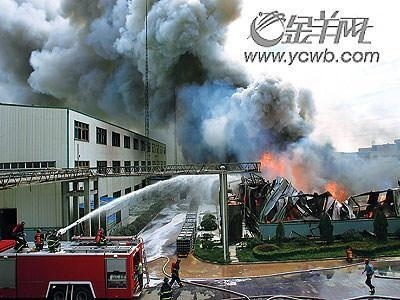fire: (260, 152, 289, 179), (325, 179, 348, 199)
